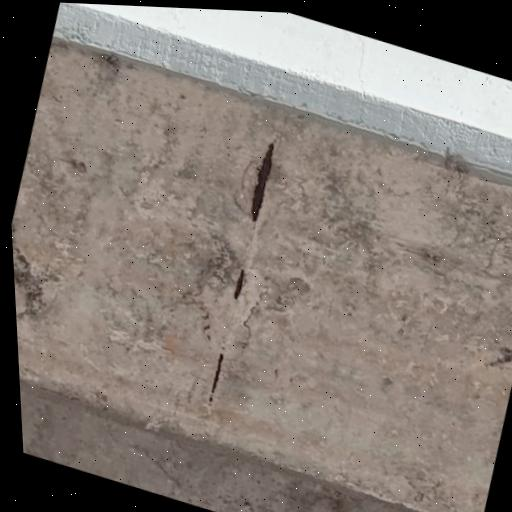exposed_rebar: (250, 143, 274, 221), (209, 353, 223, 401), (233, 268, 244, 298)
